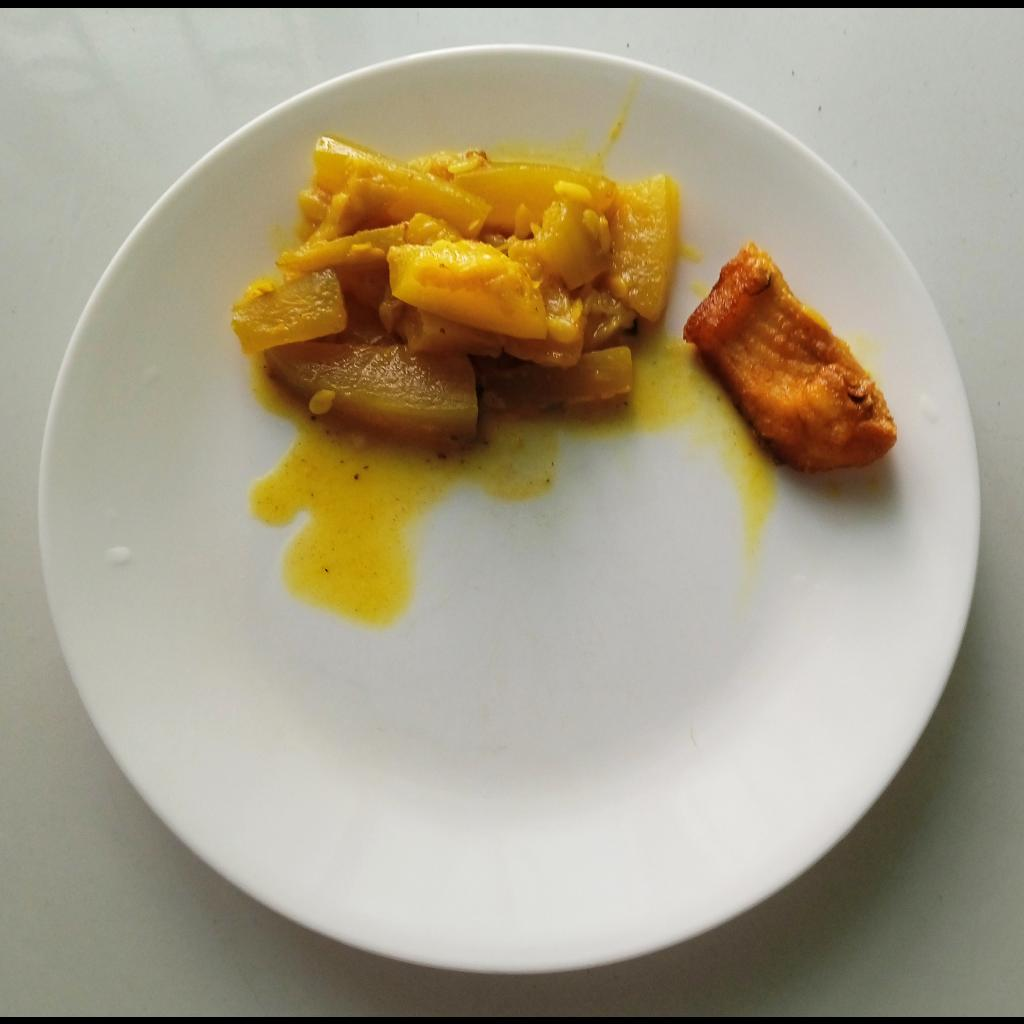fish: (682, 241, 900, 473)
potol: (228, 131, 682, 444)
